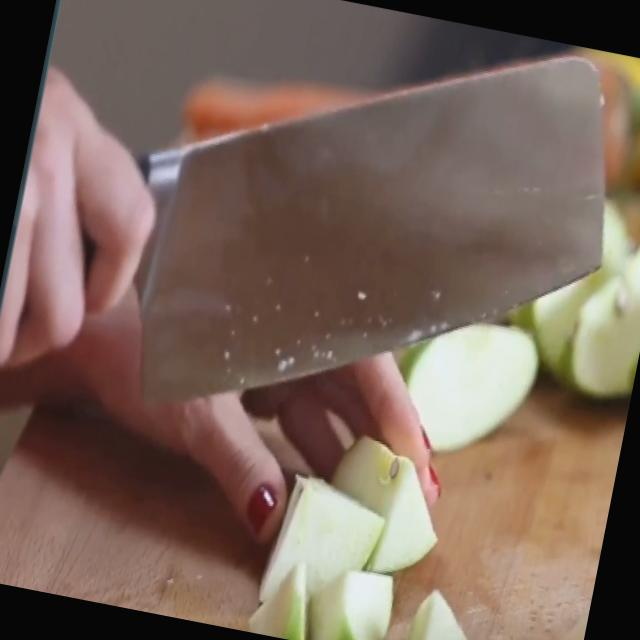knife: (134, 54, 607, 405)
